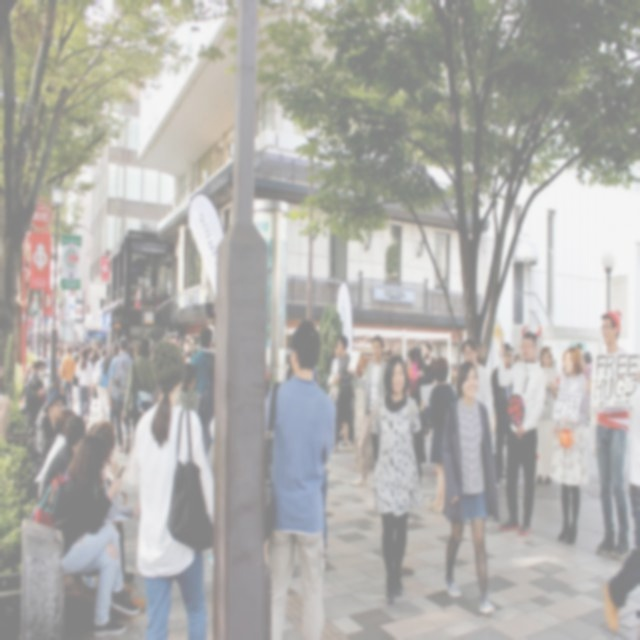pessoa: (128, 339, 214, 639), (260, 314, 337, 640), (49, 431, 141, 638), (61, 420, 148, 614), (438, 356, 501, 618), (18, 354, 104, 526), (368, 352, 426, 605), (588, 304, 640, 561), (493, 314, 547, 538), (598, 362, 640, 636), (550, 344, 592, 546), (459, 336, 494, 526), (348, 332, 388, 488), (418, 354, 456, 515), (308, 369, 333, 560), (120, 335, 159, 449), (490, 341, 515, 488), (188, 325, 215, 458), (125, 322, 201, 369), (106, 334, 135, 456), (536, 346, 560, 488), (405, 347, 427, 488), (332, 334, 356, 452), (332, 340, 354, 450), (264, 352, 294, 429), (175, 361, 203, 416), (103, 340, 120, 430), (75, 346, 94, 422), (92, 346, 110, 424), (60, 344, 77, 412), (572, 340, 594, 390), (55, 334, 104, 356), (130, 278, 161, 312), (0, 361, 11, 442), (420, 342, 438, 384), (449, 362, 461, 397), (104, 332, 120, 358), (414, 334, 424, 372), (512, 352, 524, 366)
